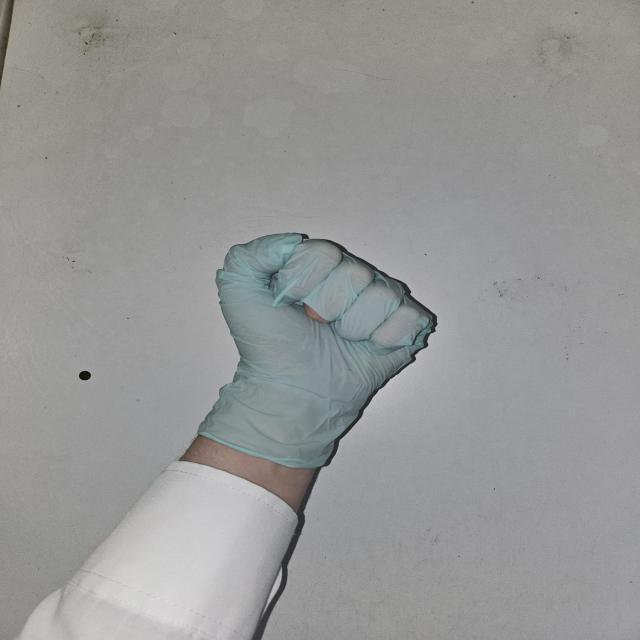gloves_damaged: (195, 231, 439, 468)
